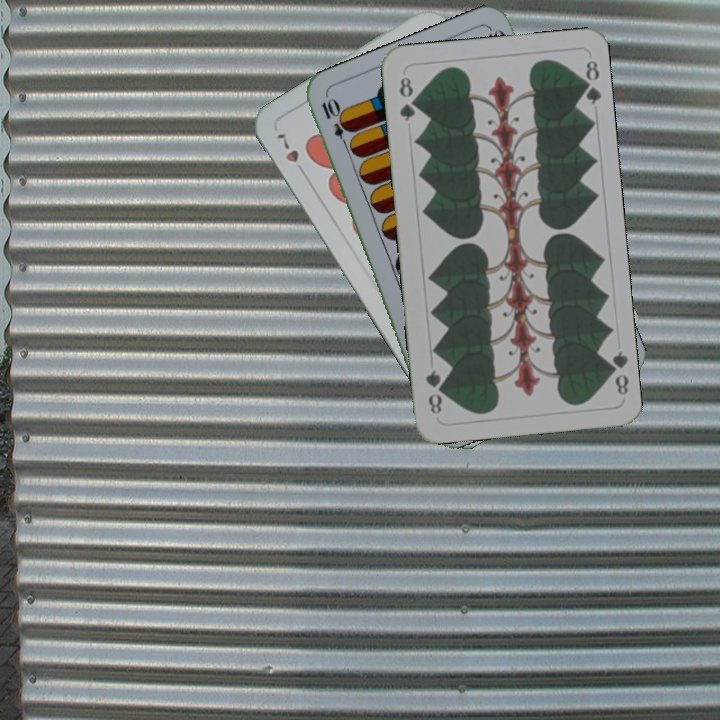E10: (317, 95, 353, 152)
G8: (602, 347, 631, 397), (395, 73, 419, 124)
H7: (273, 127, 309, 180)
